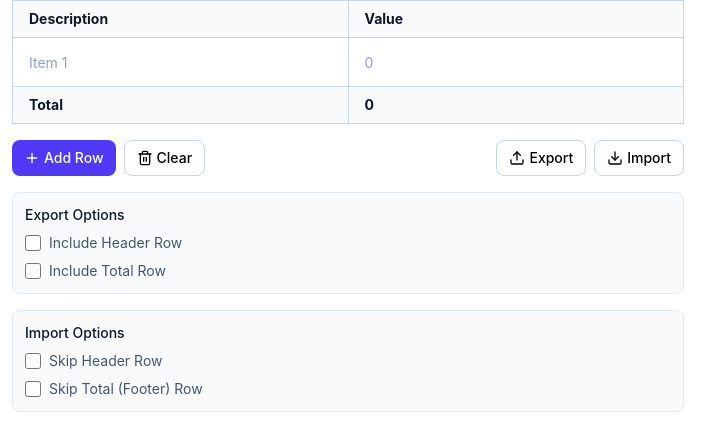
Test: ColumnSumTable › Data Validation › should trim whitespace from numeric input and accept it
Type "  123  " into the field named "value for row 1" at (516, 62), box [352, 42, 679, 82]
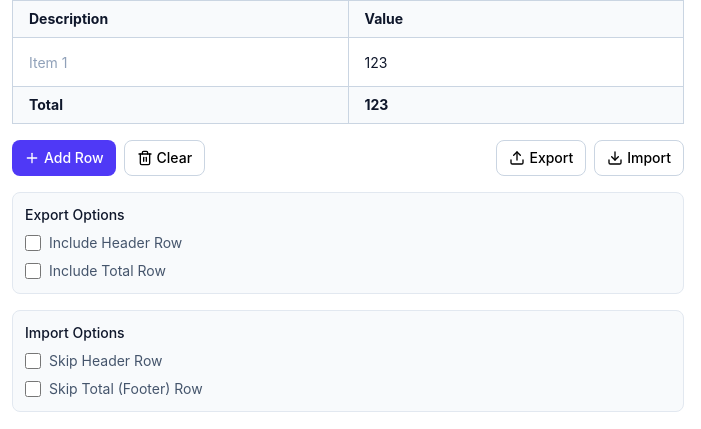
Now the text "Total" shows "123", box [364, 96, 388, 113]
